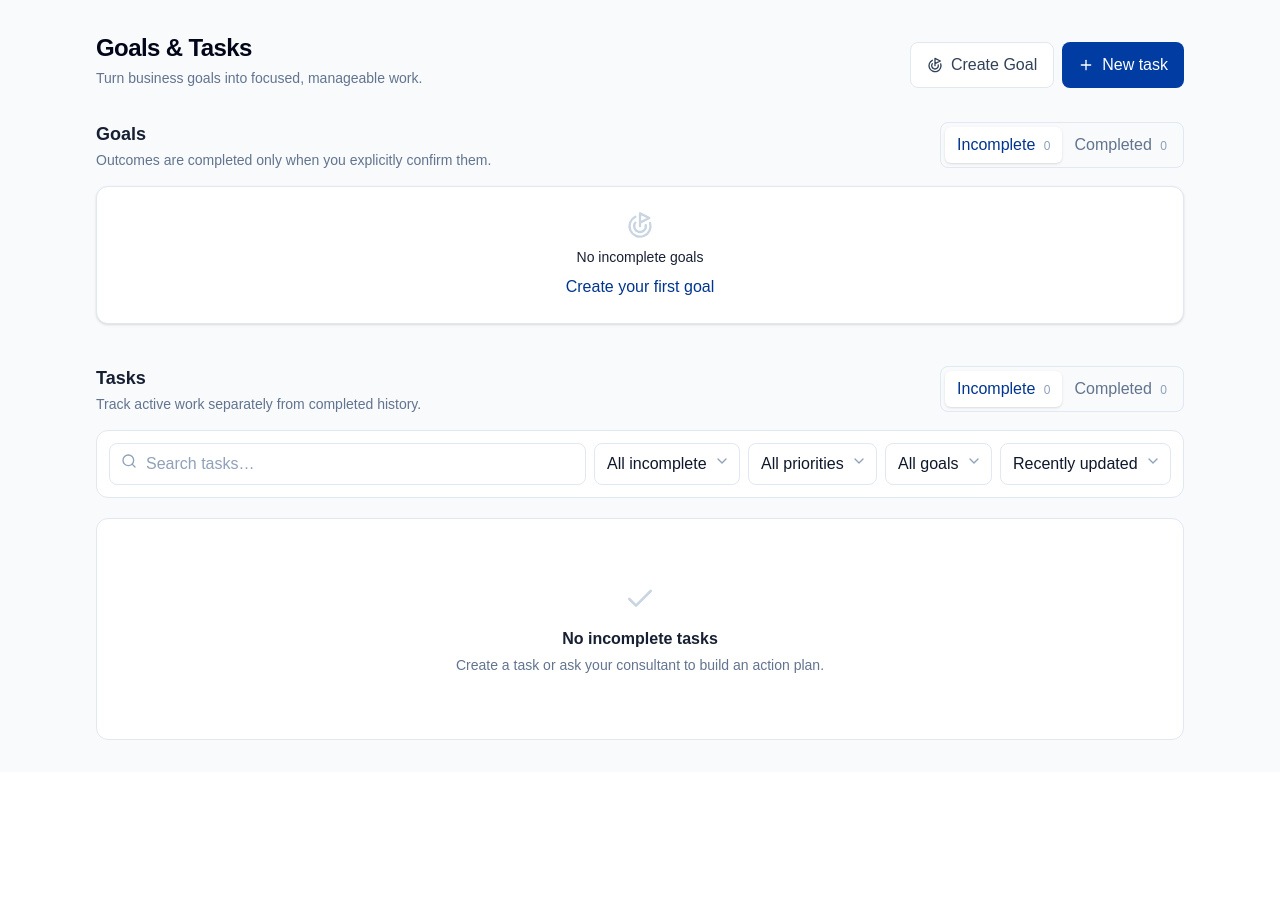
Test case: persisted task and goal management › creates a goal and a manual task through server APIs and displays both immediately
expect the heading "No incomplete tasks" is shown: met, box [562,630,718,647]
Click the button "Create Goal". click: (982, 65)
box: [910,42,1054,88]
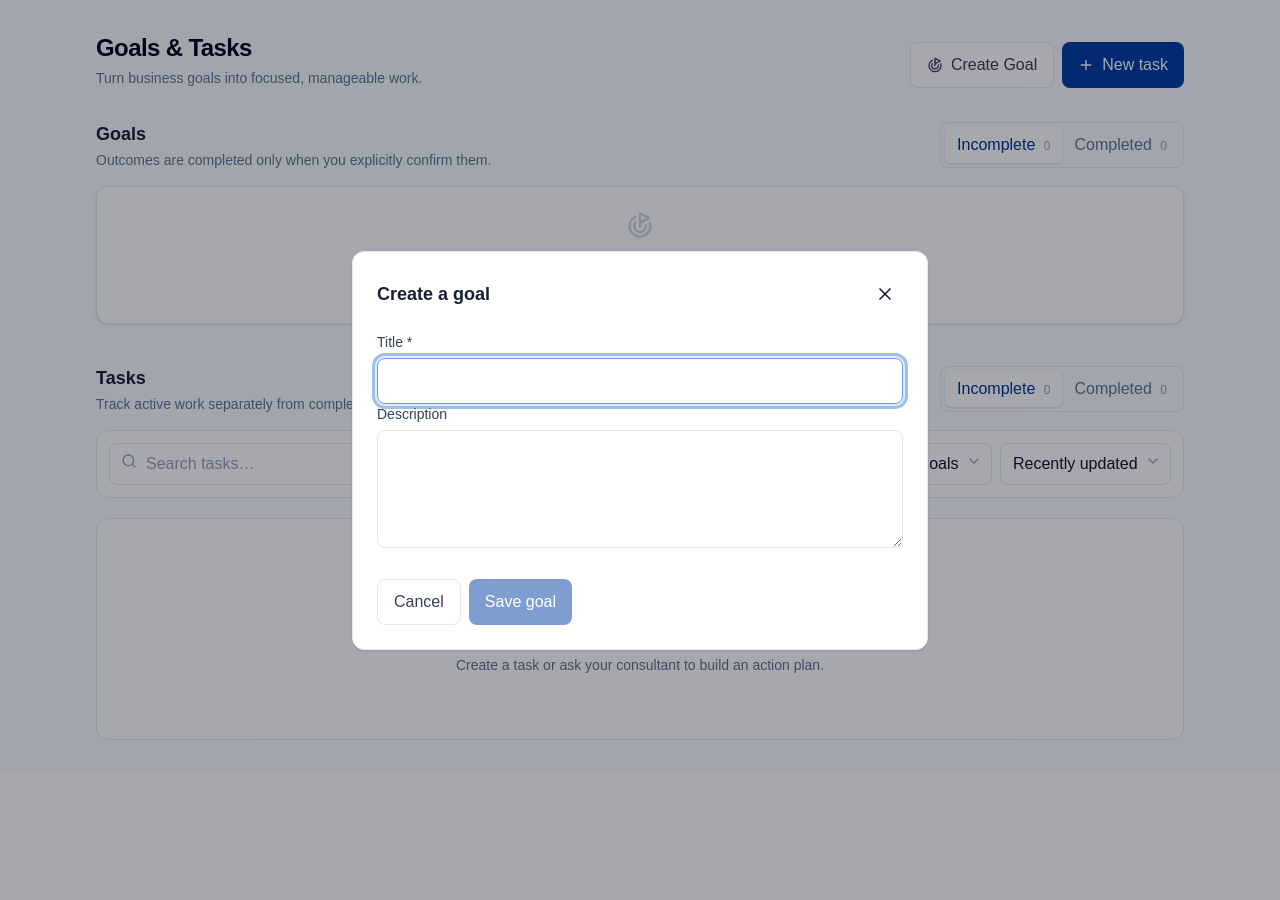
Type "Improve retention" into the field labelled "Title *". click: (640, 380)
box: [377,358,903,404]
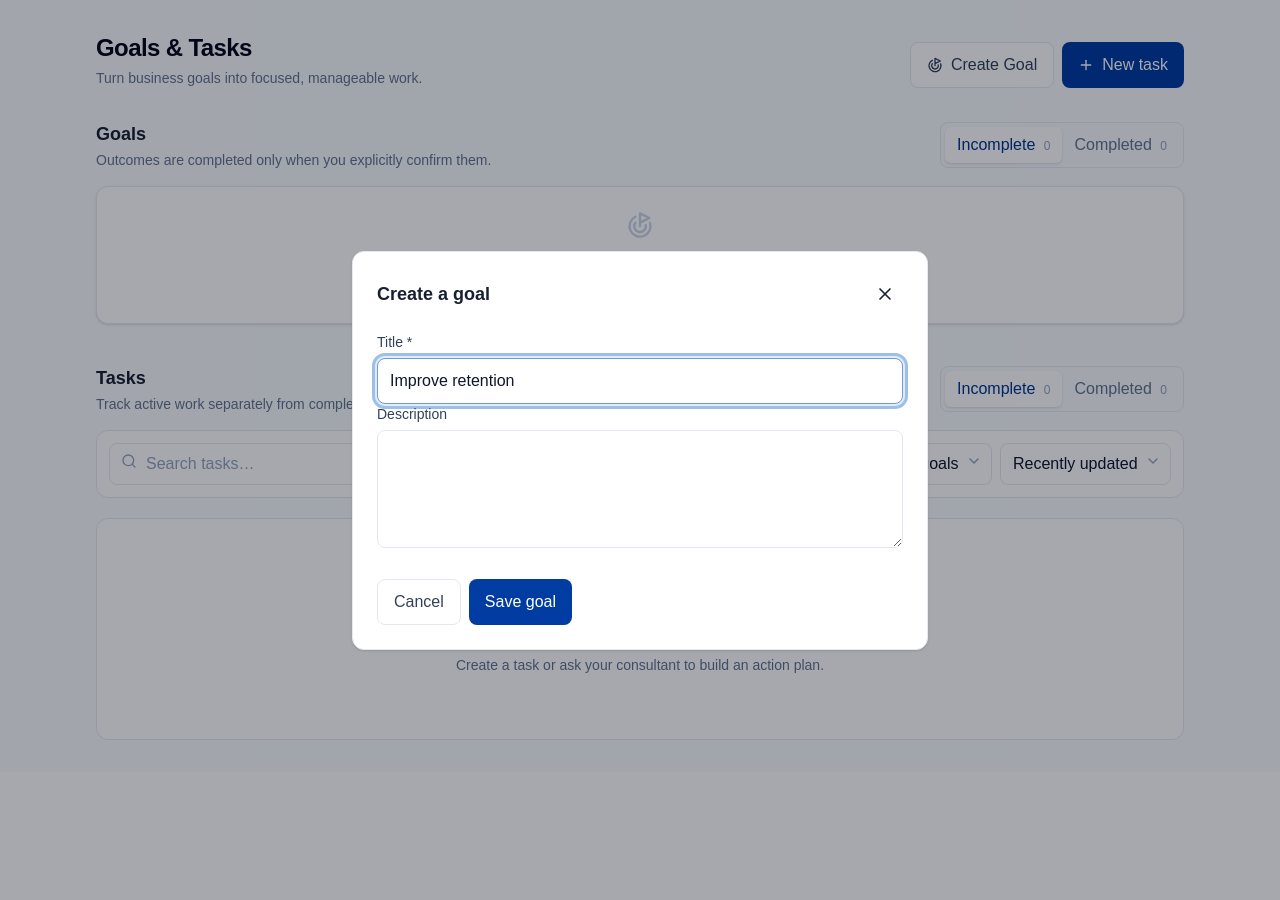
Click the button "Save goal". click: (520, 602)
box: [469,578,572,624]
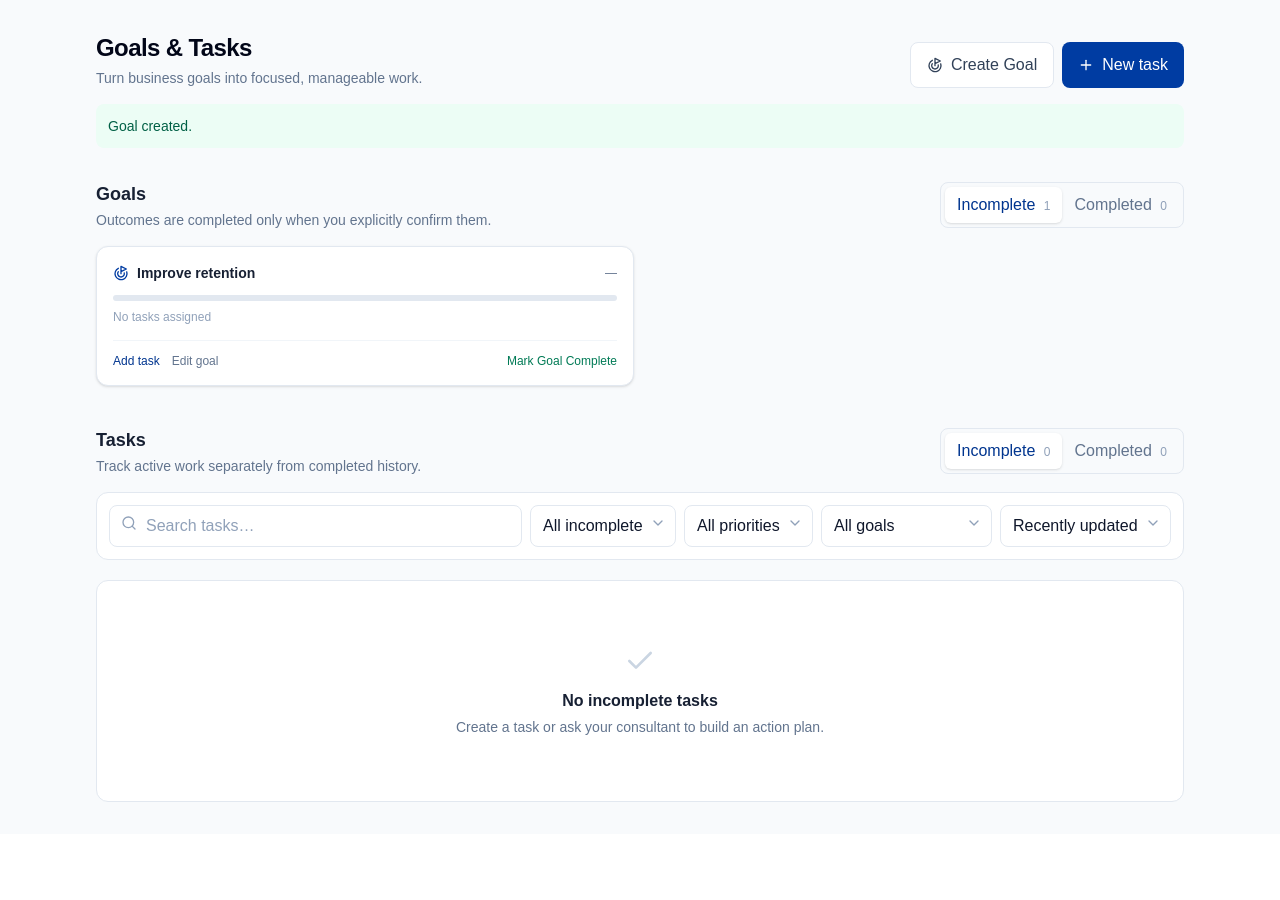
expect the progress indicator named "Improve retention: No tasks assigned" is shown: met, box [113,295,617,301]
Click the button "New task". click: (1123, 65)
box: [1062,42,1184,88]
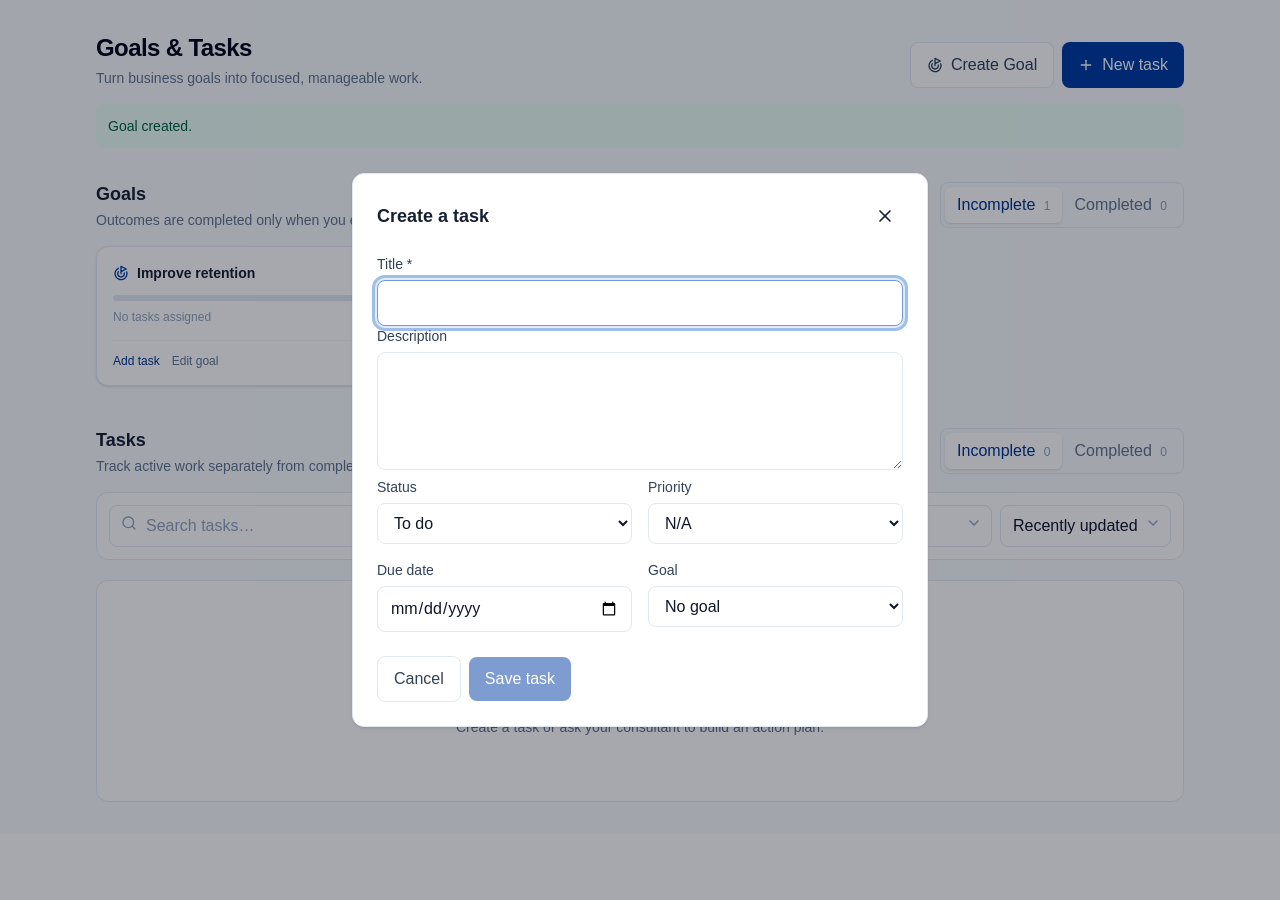
Type "Interview customers" into the field labelled "Title *". click: (640, 303)
box: [377,280,903,326]
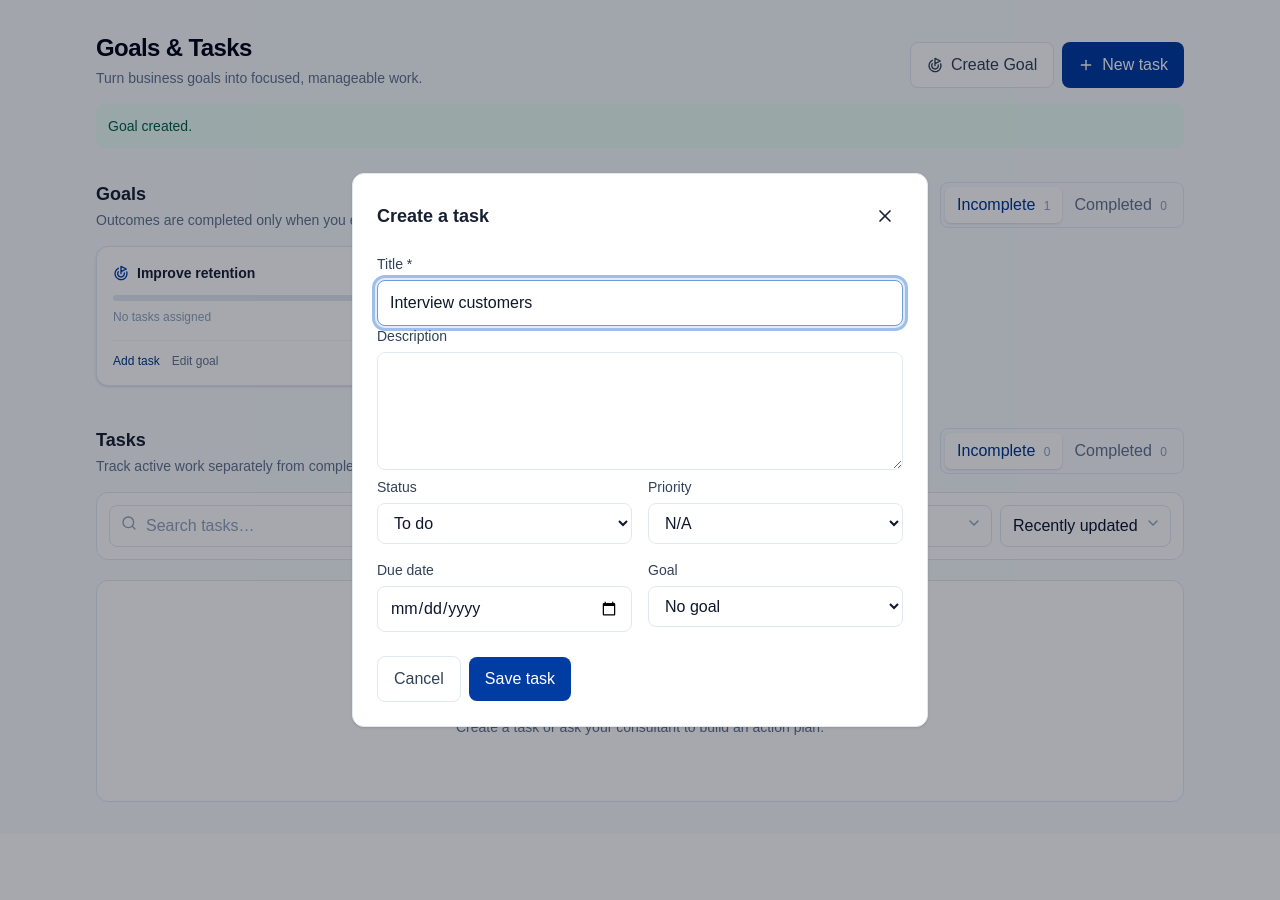
Select "Medium" in the dropdown labelled "Priority". click: (776, 524)
box: [648,503,903,544]
Select "Improve retention" in the dropdown labelled "Goal". click: (776, 606)
box: [648,586,903,627]
Click the button "Save task". click: (520, 679)
box: [469,657,571,701]
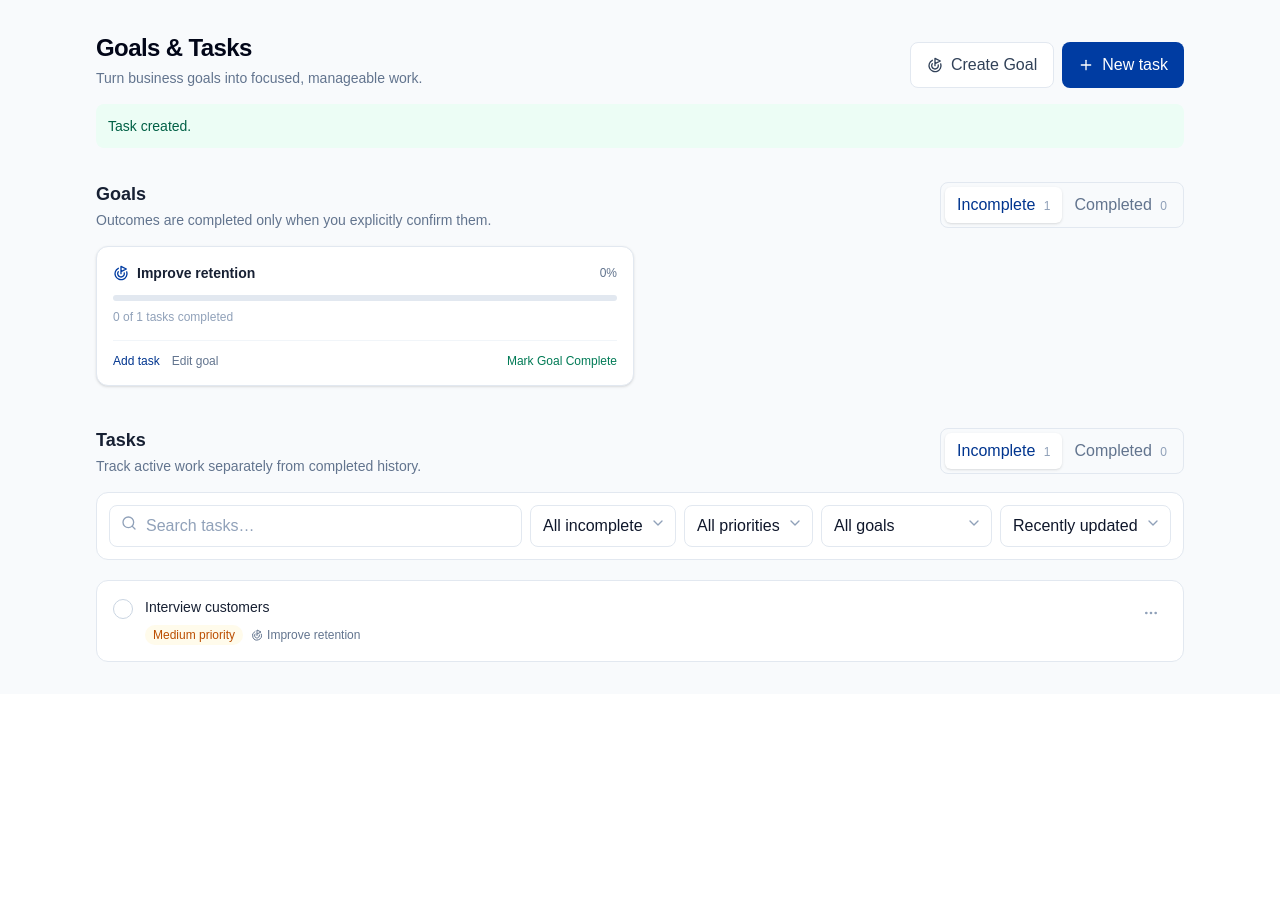
expect the text "Interview customers" is shown: met, box [145,599,270,615]
